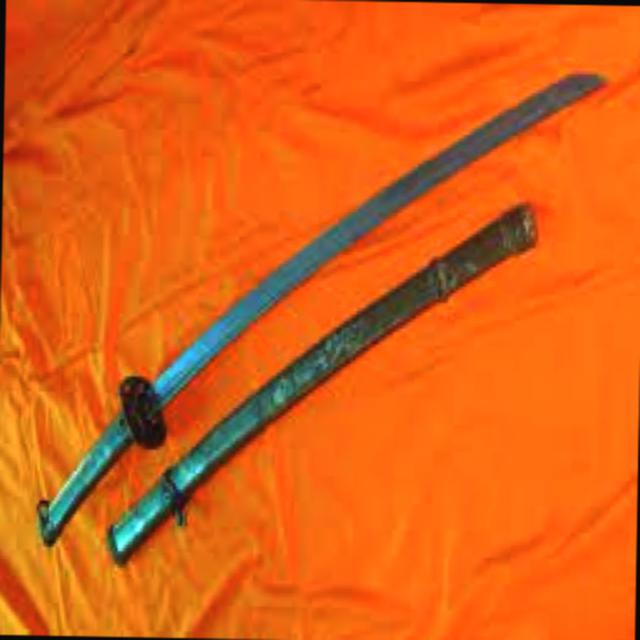long sword: (34, 57, 614, 556)
